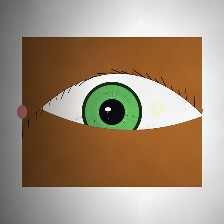pinguecula_lesion: (143, 97, 171, 120)
